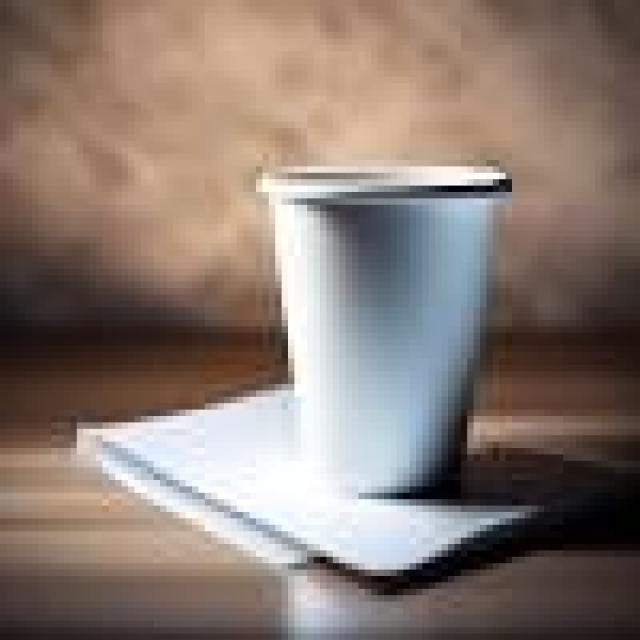trash: (253, 163, 517, 503)
